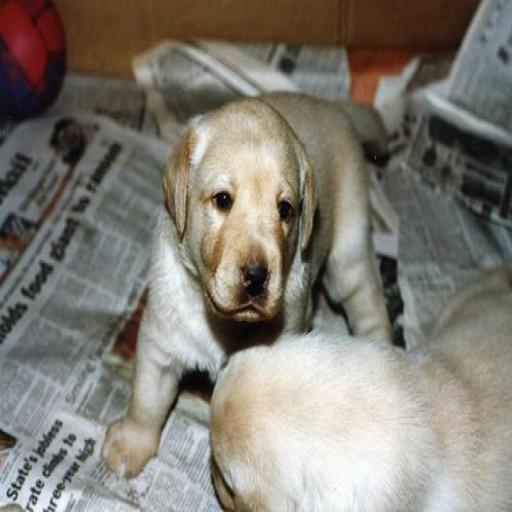dog_face: (169, 105, 320, 326)
